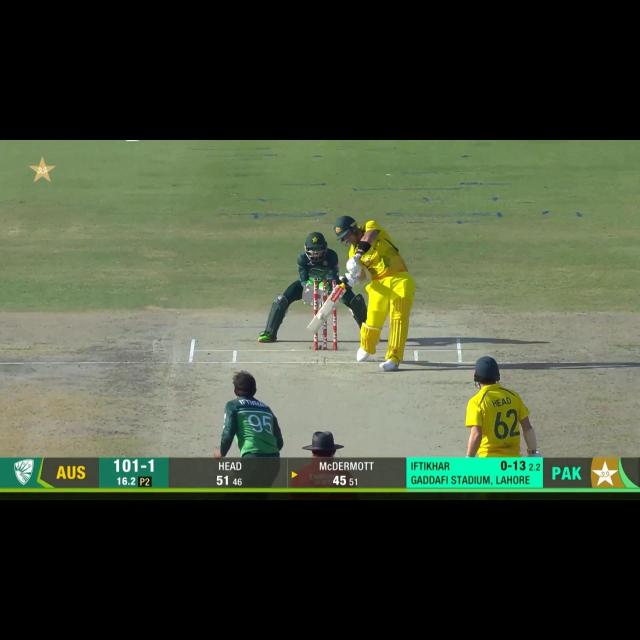bat: (310, 282, 348, 331)
toe: (308, 322, 319, 335)
